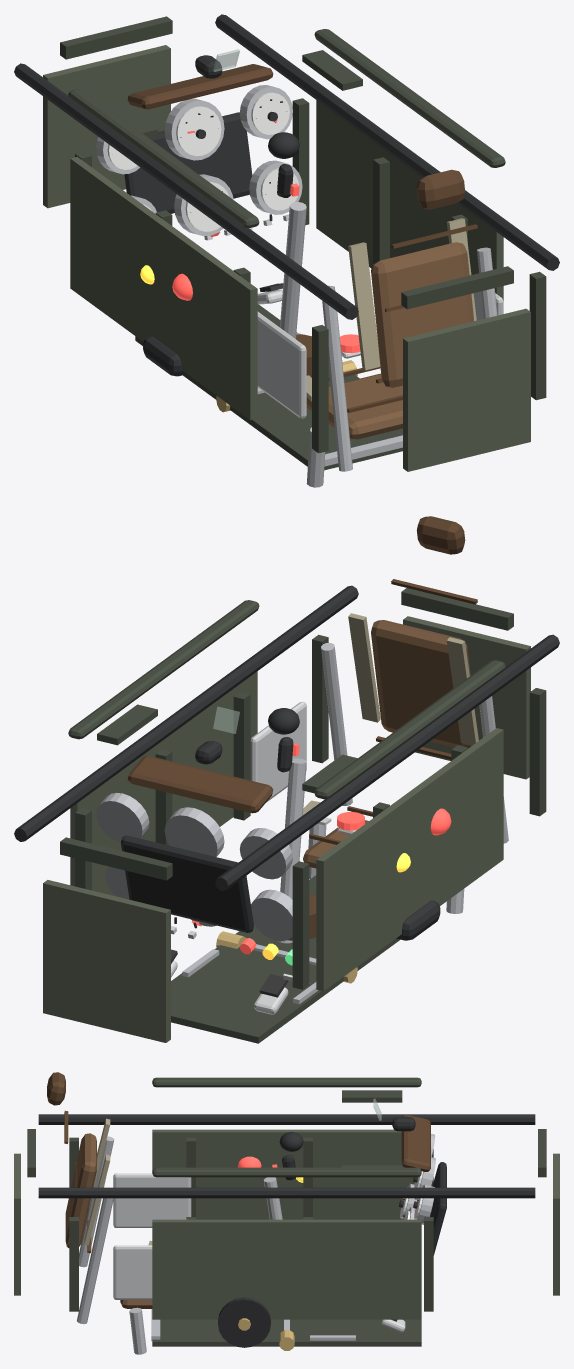
The model's file is cockpit.glb.
The picture shows the model from 3 angles, top to bottom: view 1: azimuth 30°, elevation 25°; view 2: azimuth 150°, elevation 25°; view 3: azimuth 270°, elevation 25°; orthographic projection. The views are drawn at different scales.
Visible parts, largest first — view 1: cockpit_tub, cockpit_kit, cockpit_stick, cockpit_throttle, cockpit_pedal_1; view 2: cockpit_tub, cockpit_kit, cockpit_stick, cockpit_throttle, cockpit_pedal_-1, cockpit_pedal_1; view 3: cockpit_tub, cockpit_kit, cockpit_stick, cockpit_pedal_1.
Boxes of the visible parts, x1=… form: cockpit_tub: x1=14, y1=14, x2=559, y2=471; cockpit_kit: x1=96, y1=49, x2=503, y2=487; cockpit_stick: x1=268, y1=132, x2=311, y2=377; cockpit_throttle: x1=140, y1=265, x2=192, y2=376; cockpit_pedal_1: x1=257, y1=283, x2=357, y2=375; cockpit_tub: x1=14, y1=585, x2=559, y2=1043; cockpit_kit: x1=96, y1=516, x2=508, y2=983; cockpit_stick: x1=268, y1=708, x2=316, y2=943; cockpit_throttle: x1=396, y1=808, x2=451, y2=940; cockpit_pedal_-1: x1=254, y1=967, x2=357, y2=1014; cockpit_pedal_1: x1=171, y1=931, x2=245, y2=977; cockpit_tub: x1=14, y1=1077, x2=559, y2=1346; cockpit_kit: x1=47, y1=1072, x2=446, y2=1354; cockpit_stick: x1=263, y1=1132, x2=303, y2=1219; cockpit_pedal_1: x1=279, y1=1319, x2=405, y2=1350.
Bounding box in the file's own units: 0.6675 × 0.7783 × 1.54.
